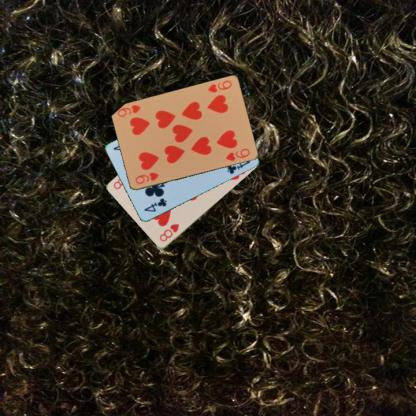4c: (141, 196, 168, 213)
8h: (157, 221, 180, 243)
9h: (204, 78, 233, 94), (132, 170, 160, 185)
